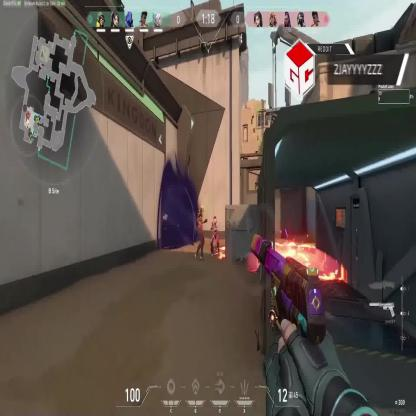enemy: (194, 204, 208, 260), (210, 216, 220, 256)
enemy_head: (213, 216, 217, 224), (200, 206, 203, 215)
